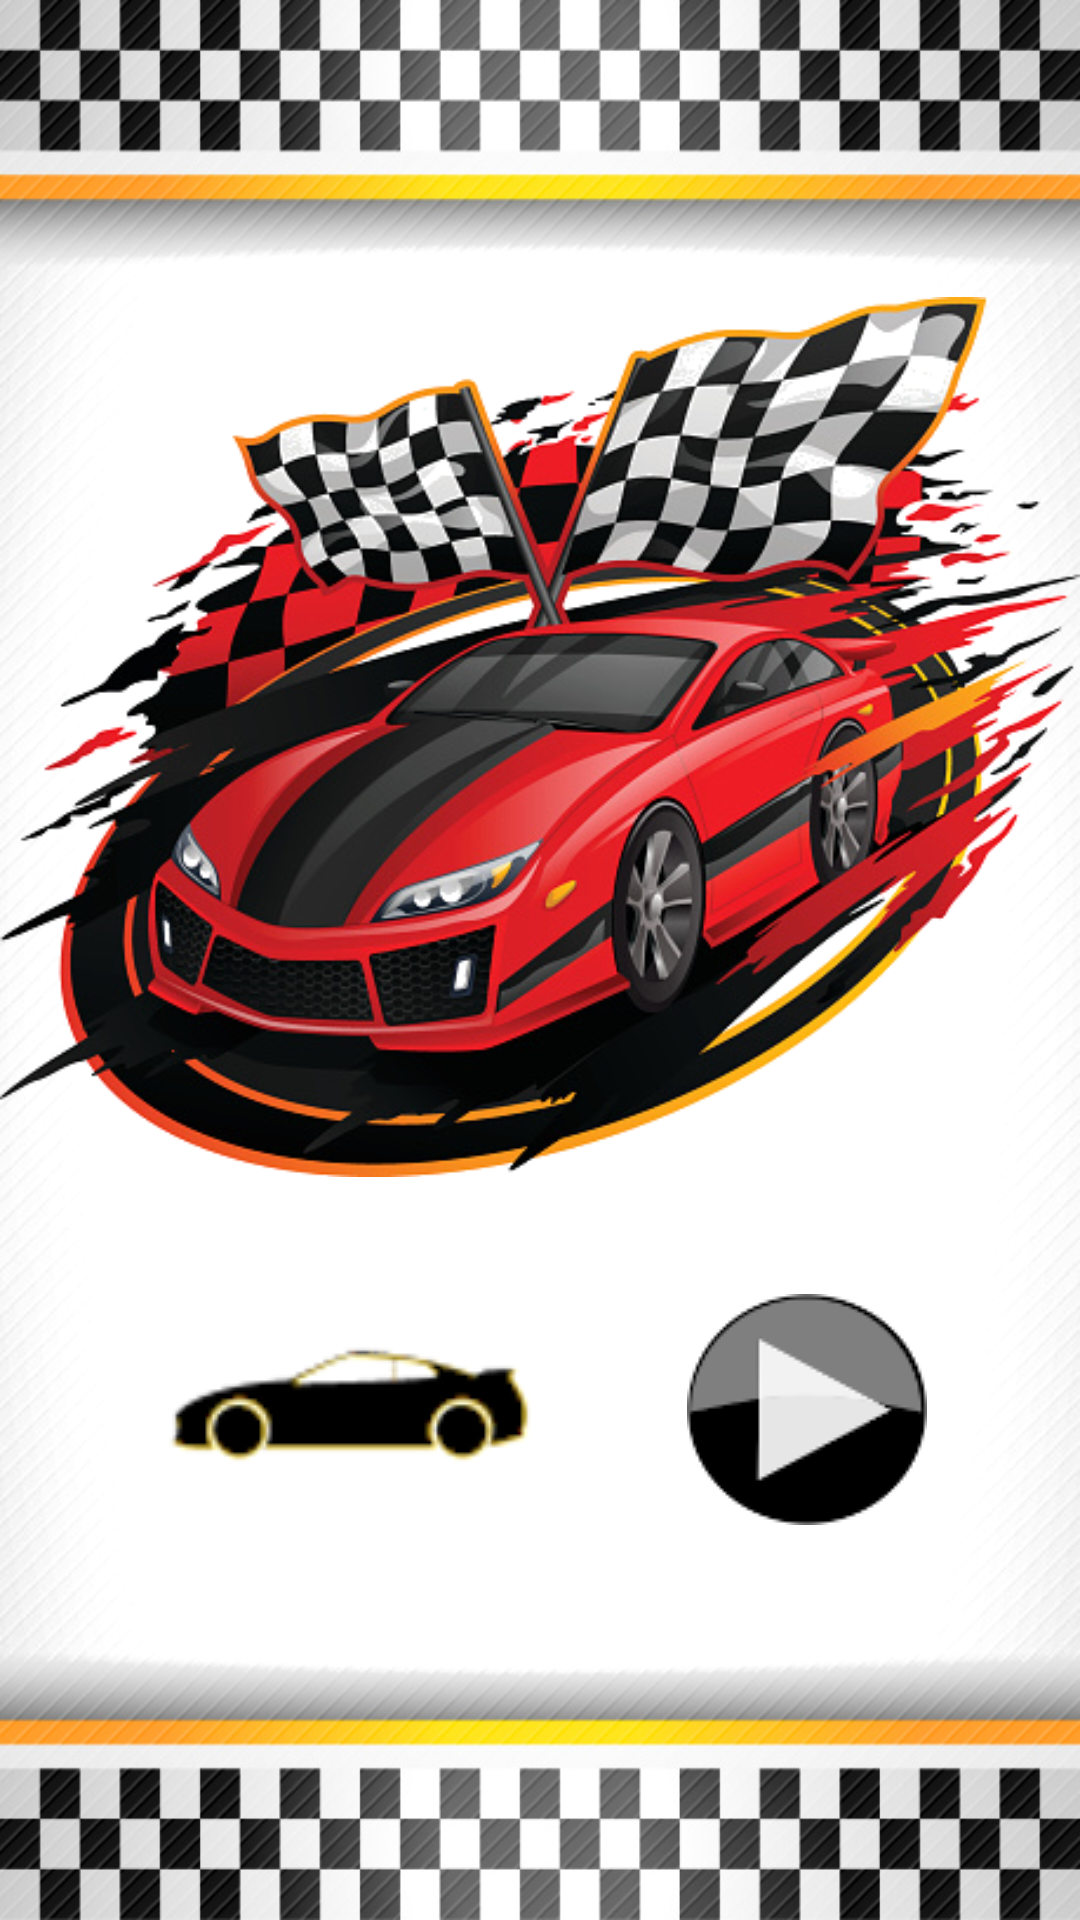

Where icons sit on this 1080w x 1920h app screen, as {"left": x1, "top": y1, "right": x2, "bottom": y2}:
Concesionario: {"left": 172, "top": 1350, "right": 529, "bottom": 1460}
Play: {"left": 687, "top": 1294, "right": 927, "bottom": 1525}
